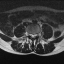CCS_stenosis: (32, 32, 34, 39)
LFS_normal: (36, 31, 38, 38)
LLS_normal: (34, 31, 36, 39)
RFS_normal: (28, 30, 30, 37)
RLS_normal: (30, 31, 32, 38)
